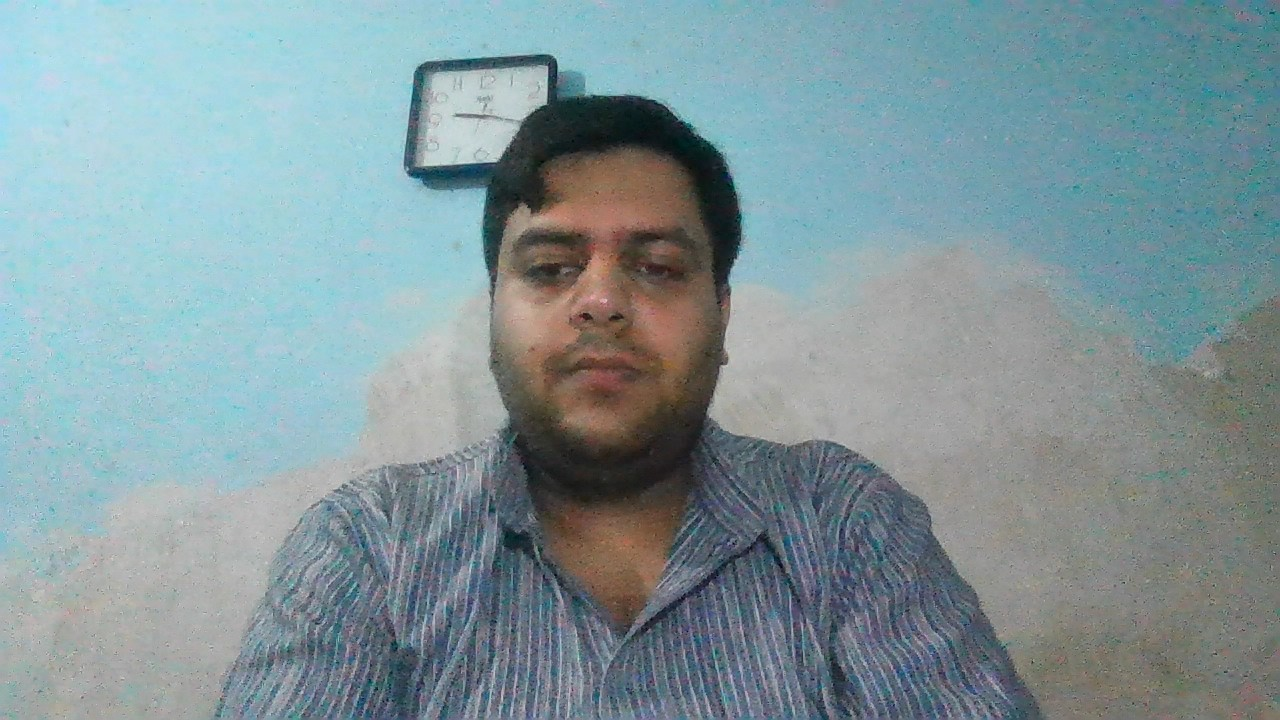No Mask: (484, 287, 734, 462)
